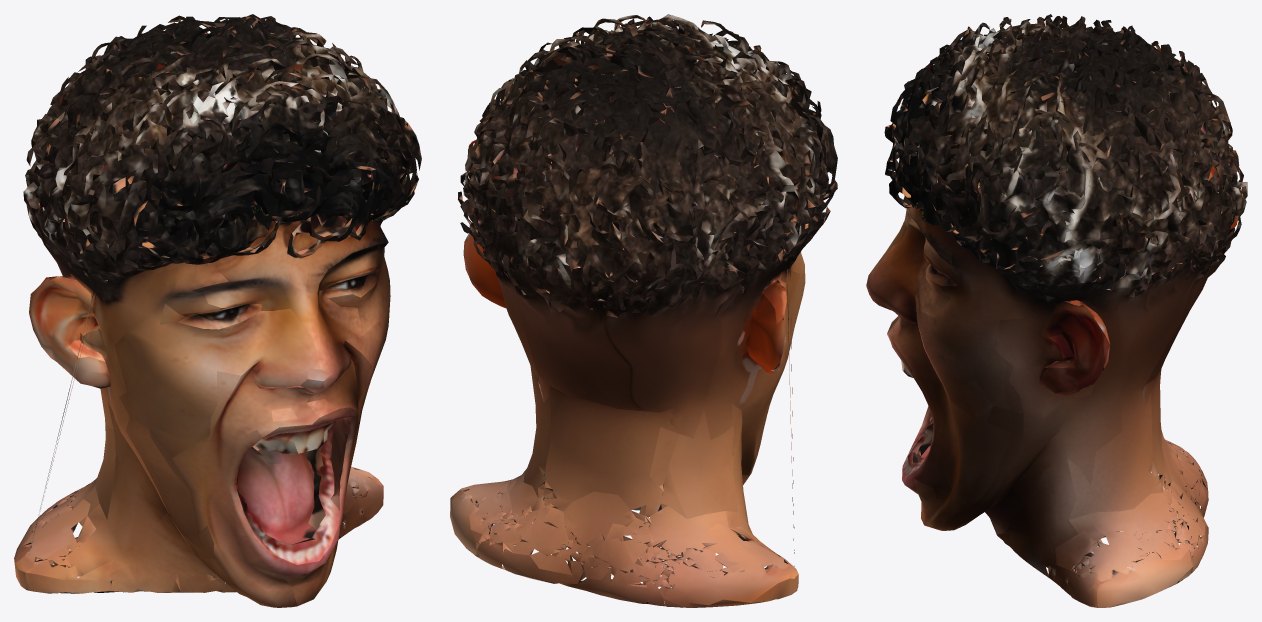
The model's file is WEAM1.glb.
The picture shows the model from 3 angles, left to right: view 1: azimuth 30°, elevation 25°; view 2: azimuth 150°, elevation 25°; view 3: azimuth 270°, elevation 25°; orthographic projection. The views are drawn at different scales.
Visible parts, largest first — view 1: tmphm9rg5yi.ply; view 2: tmphm9rg5yi.ply; view 3: tmphm9rg5yi.ply.
Part boxes in pixels (box(x1,y1,x2,y2)): tmphm9rg5yi.ply: box(14, 14, 421, 607); tmphm9rg5yi.ply: box(450, 14, 837, 607); tmphm9rg5yi.ply: box(866, 14, 1247, 607).
Bounding box in the file's own units: 1.41 × 1.97 × 1.38.
1 material, 1 textured.
